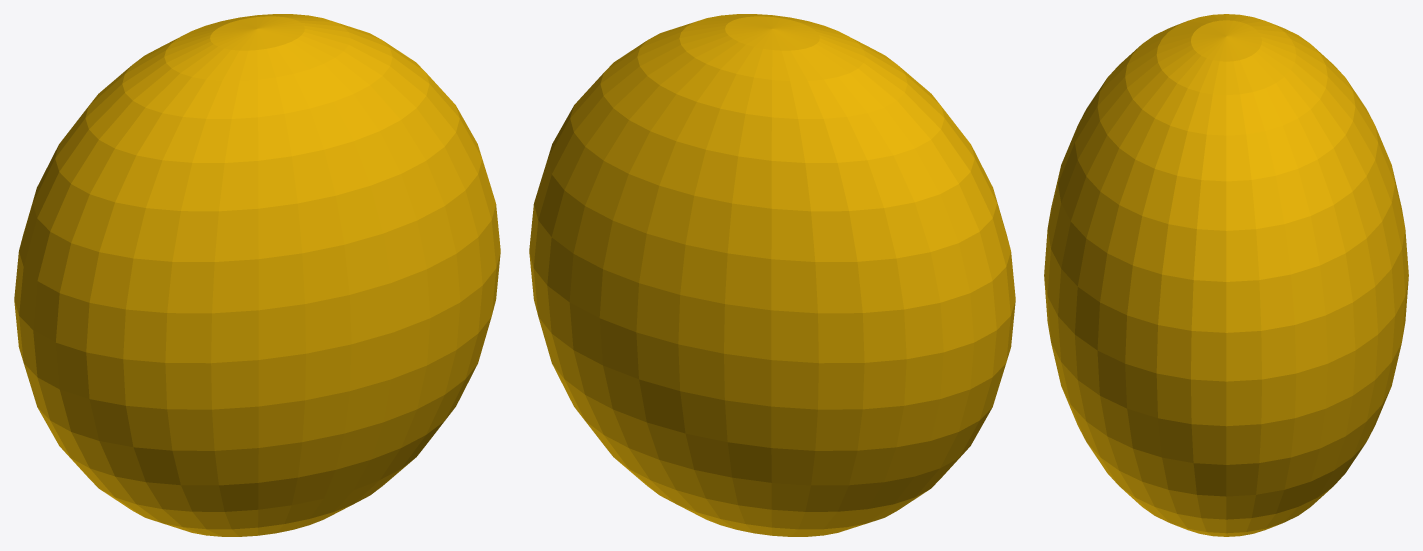
File: potato.fbx
The picture shows the model from 3 angles, left to right: view 1: azimuth 30°, elevation 25°; view 2: azimuth 150°, elevation 25°; view 3: azimuth 270°, elevation 25°; orthographic projection. The views are drawn at different scales.
Visible parts, largest first — view 1: Sphere; view 2: Sphere; view 3: Sphere.
Boxes of the visible parts, bbox=[...] form: Sphere: bbox=[14, 14, 500, 536]; Sphere: bbox=[529, 14, 1015, 536]; Sphere: bbox=[1044, 14, 1408, 536].
Bounding box in the file's own units: 389 × 409 × 283.
